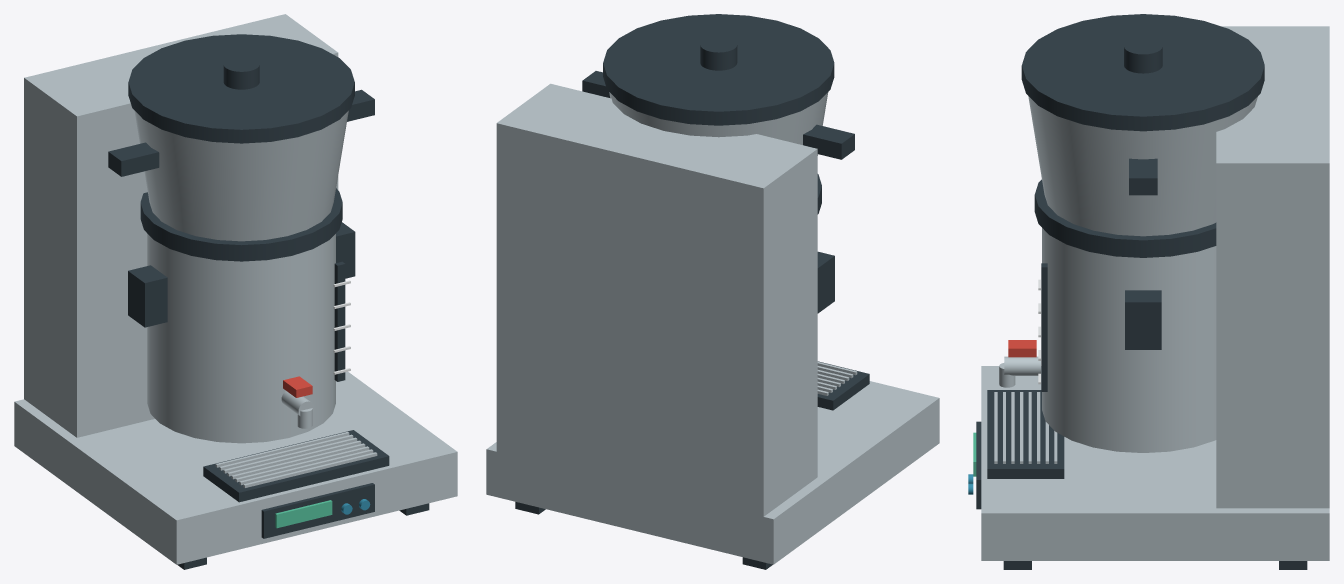
The model's file is tea_brewer.glb.
The picture shows the model from 3 angles, left to right: view 1: azimuth 30°, elevation 25°; view 2: azimuth 150°, elevation 25°; view 3: azimuth 270°, elevation 25°; orthographic projection. The views are drawn at different scales.
Parts seen in each view (by area): view 1: heating_column, base, tea_vessel, brew_lid, brew_basket, vessel_lid, drip_tray_tray, vessel_handle (×2), control_panel, basket_handle (×2), sight_gauge, lid_knob (+9 smaller); view 2: heating_column, base, brew_lid, brew_basket, basket_handle, lid_knob, vessel_handle, drip_tray_tray; view 3: heating_column, base, tea_vessel, brew_lid, brew_basket, drip_tray_tray, vessel_lid, vessel_handle, lid_knob, basket_handle, sight_gauge, tea_tap_outlet (+2 smaller).
Part boxes in pixels (x1,y1,x2,y2): heating_column: [24, 14, 338, 437]; base: [14, 371, 457, 564]; tea_vessel: [147, 234, 335, 443]; brew_lid: [128, 34, 354, 143]; brew_basket: [134, 110, 348, 241]; vessel_lid: [140, 188, 342, 261]; drip_tray_tray: [203, 430, 389, 502]; vessel_handle (×2): [128, 222, 355, 327]; control_panel: [261, 483, 374, 538]; basket_handle (×2): [108, 89, 374, 176]; sight_gauge: [334, 261, 345, 381]; lid_knob: [223, 56, 259, 89]; heating_column: [496, 83, 817, 516]; base: [486, 381, 939, 564]; brew_lid: [603, 14, 834, 125]; brew_basket: [609, 92, 828, 155]; basket_handle: [803, 124, 854, 159]; lid_knob: [700, 37, 737, 70]; vessel_handle: [817, 251, 834, 313]; drip_tray_tray: [817, 361, 869, 410]; heating_column: [1216, 26, 1329, 508]; base: [981, 366, 1329, 560]; tea_vessel: [1042, 228, 1216, 452]; brew_lid: [1021, 14, 1264, 131]; brew_basket: [1028, 96, 1257, 236]; drip_tray_tray: [987, 390, 1064, 478]; vessel_lid: [1034, 179, 1216, 257]; vessel_handle: [1125, 290, 1161, 349]; lid_knob: [1124, 38, 1162, 73]; basket_handle: [1129, 158, 1157, 195]; sight_gauge: [1041, 263, 1047, 391]; tea_tap_outlet: [1004, 356, 1040, 375].
Bounding box in the file's own units: 0.43 × 0.626 × 0.446.
